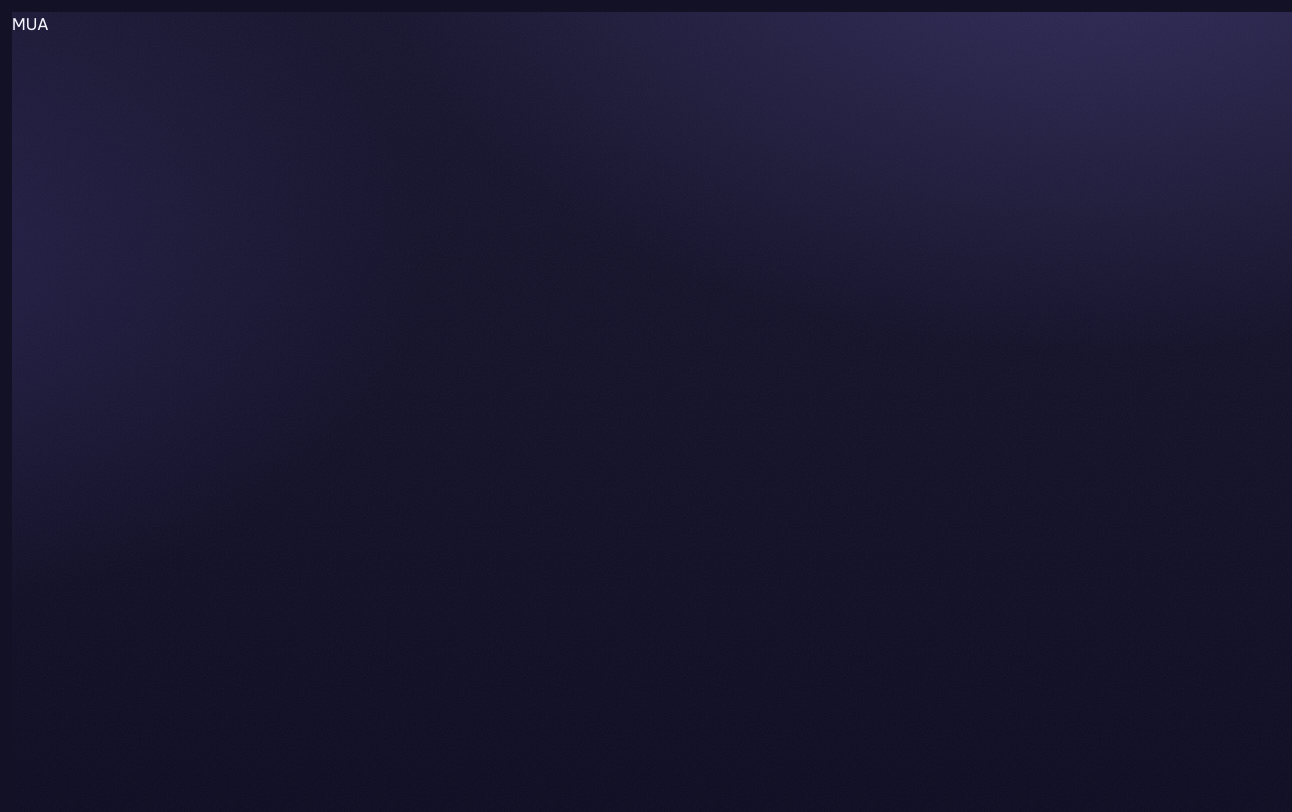
Test: PlaceholderLinkButton › shows a notice and prevents navigation when the URL is '#'
Click the button with test id "x": point(30, 24) [12,12,49,36]
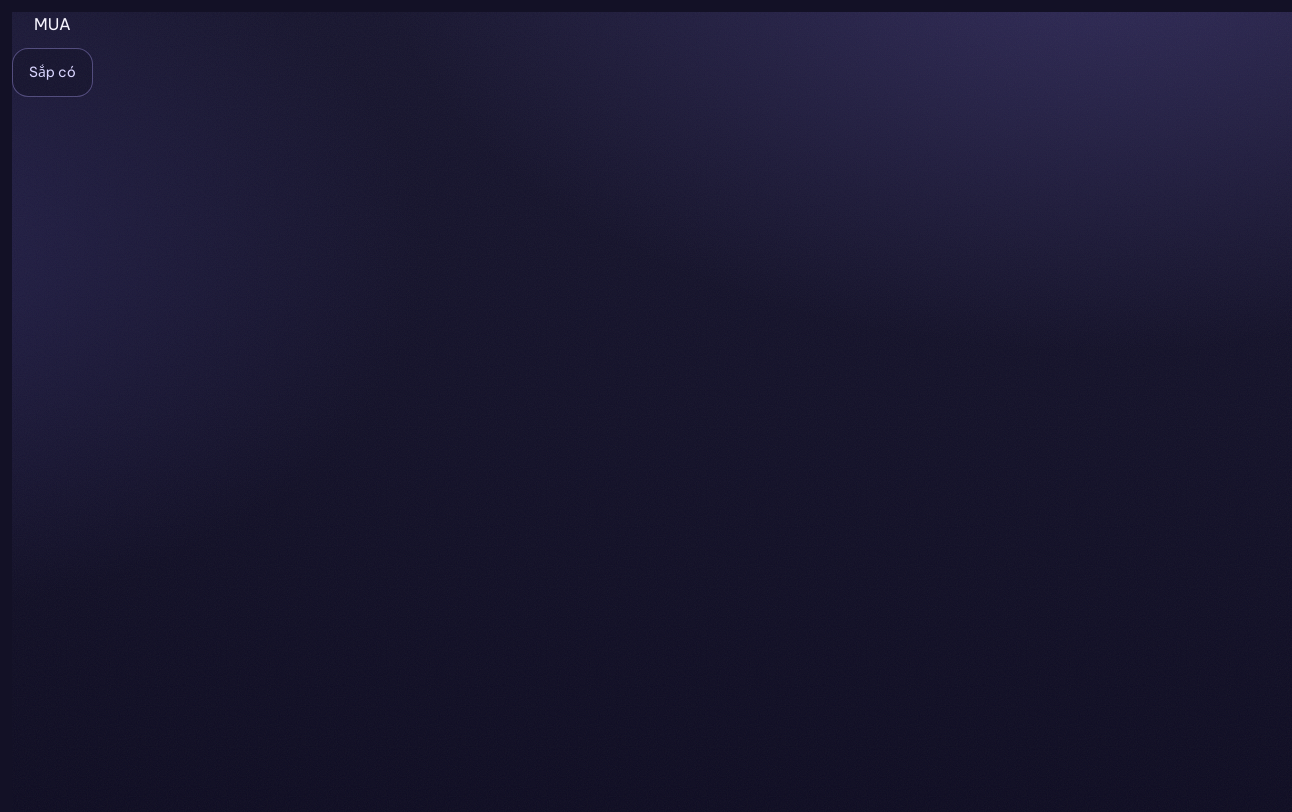
Check: the message with test id "x-notice" reads "Sắp có", box [29,63,76,81]
